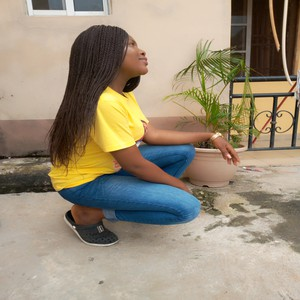Fulokoja_female_student: (65, 26, 162, 212)
